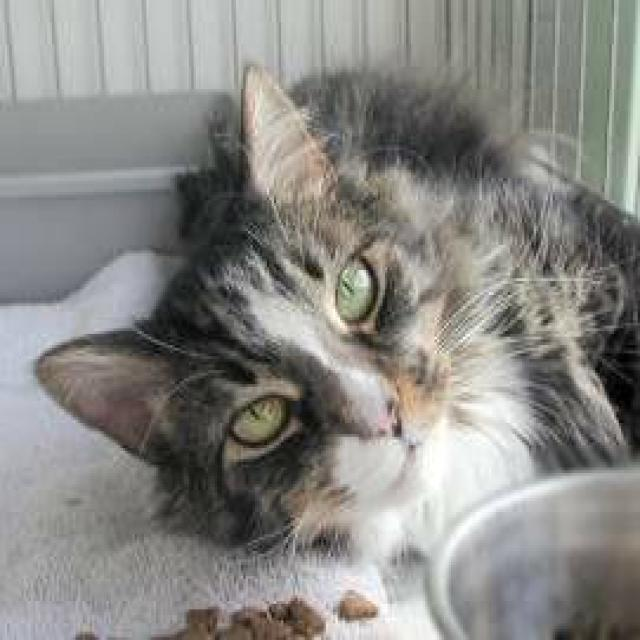cat: (33, 59, 638, 574)
